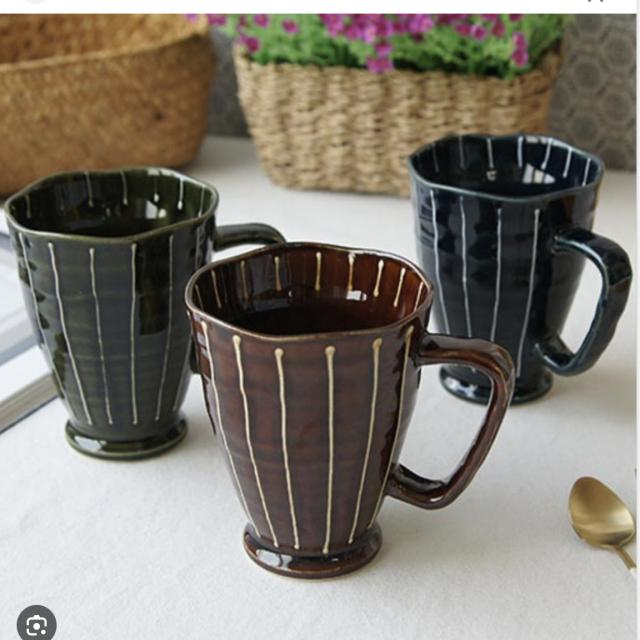recyclable: (174, 231, 518, 591), (2, 159, 306, 463), (392, 120, 632, 410)
